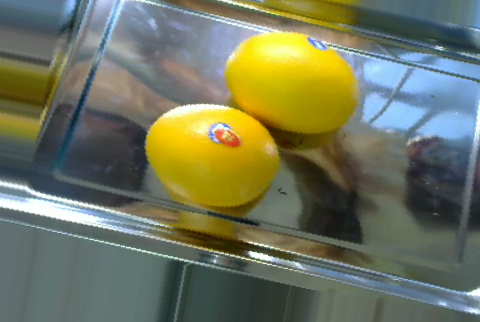Orange: (145, 102, 280, 207), (224, 30, 361, 133)
